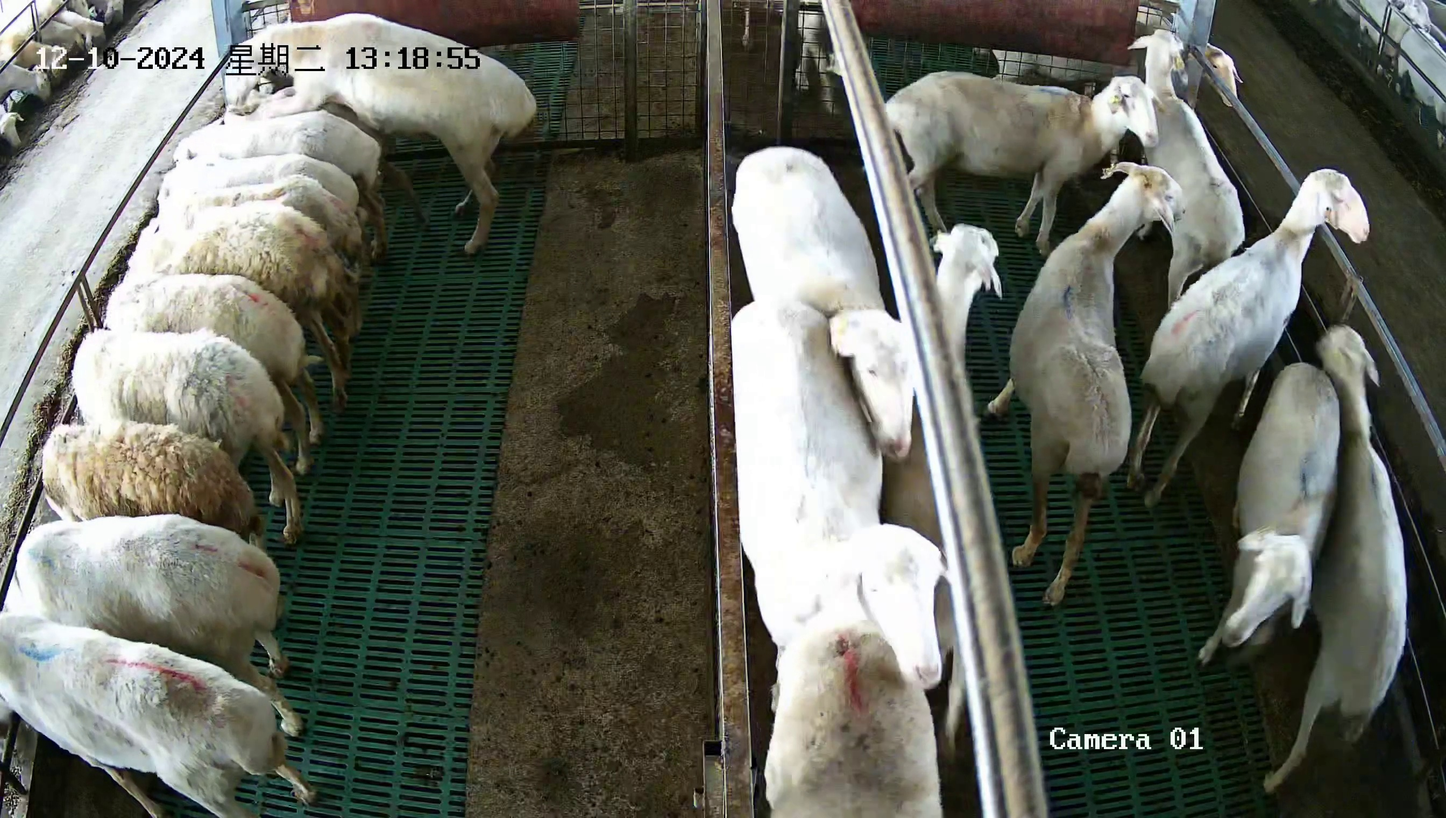Nmounting: (218, 12, 537, 253)
